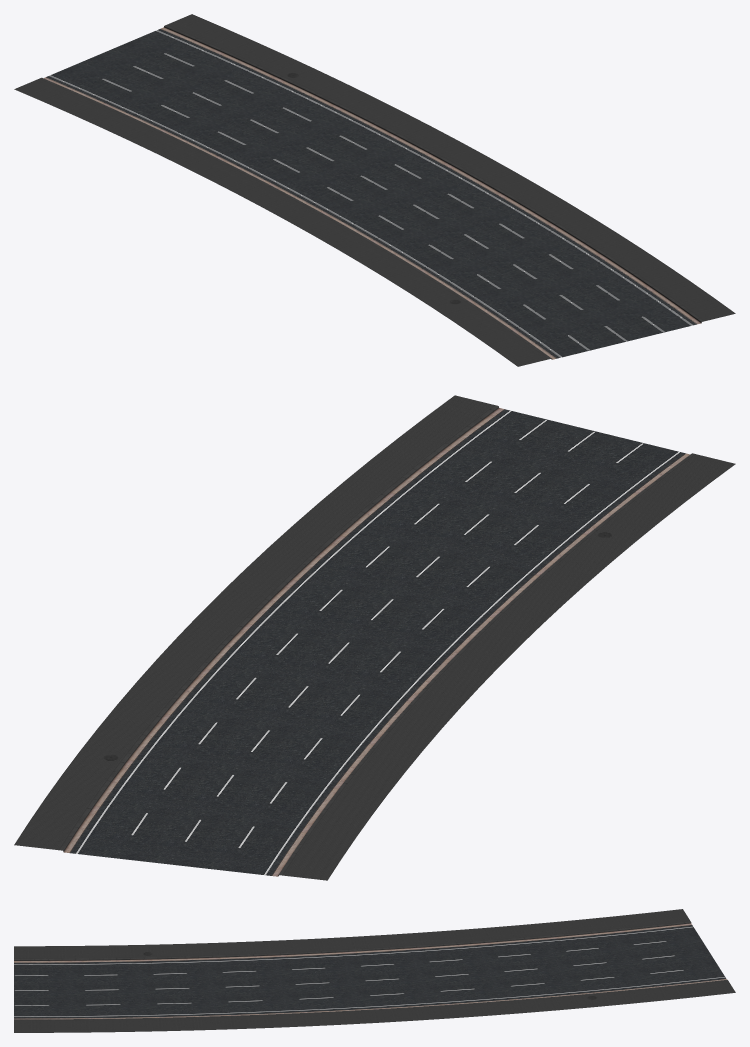
File: or_city_road_4ways_15left.fbx
3 views of the same model, one above another, from view 1: azimuth 30°, elevation 25°; view 2: azimuth 150°, elevation 25°; view 3: azimuth 270°, elevation 25° (orthographic). The views are drawn at different scales.
Parts seen in each view (by area): view 1: obj0; view 2: obj0; view 3: obj0.
Part boxes in pixels (x1,y1,x2,y2): obj0: (14, 14, 735, 366); obj0: (14, 395, 735, 880); obj0: (14, 909, 735, 1032).
Size of the model in its own units: 63.53 by 0.254 by 156.
